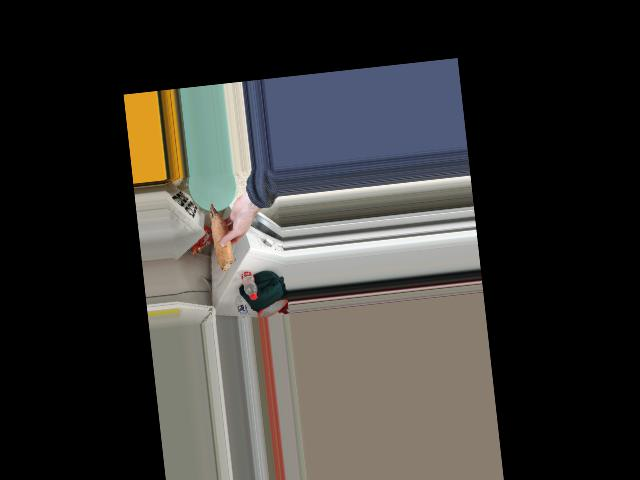sweet_potato: (204, 202, 238, 274)
